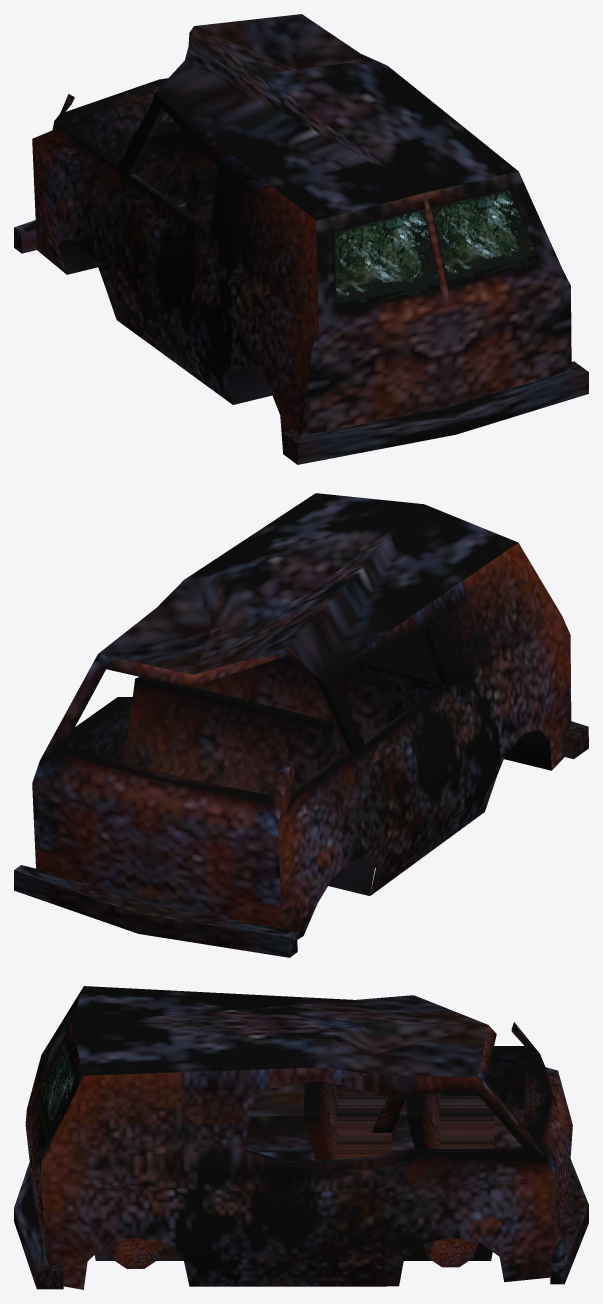
Rendered from CivVan_V2_Wrecked.glb.
3 renders of one model, top to bottom at view 1: azimuth 30°, elevation 25°; view 2: azimuth 150°, elevation 25°; view 3: azimuth 270°, elevation 25°, orthographic. The views are drawn at different scales.
Visible parts, largest first — view 1: CIVVAN_V2_WRECKED; view 2: CIVVAN_V2_WRECKED; view 3: CIVVAN_V2_WRECKED.
Part boxes in pixels (x1,y1,x2,y2): CIVVAN_V2_WRECKED: (14, 14, 588, 464); CIVVAN_V2_WRECKED: (14, 493, 588, 957); CIVVAN_V2_WRECKED: (14, 986, 588, 1289).
Size of the model in its own units: 2.64 by 2.14 by 4.98.
2 materials, 2 textured.
